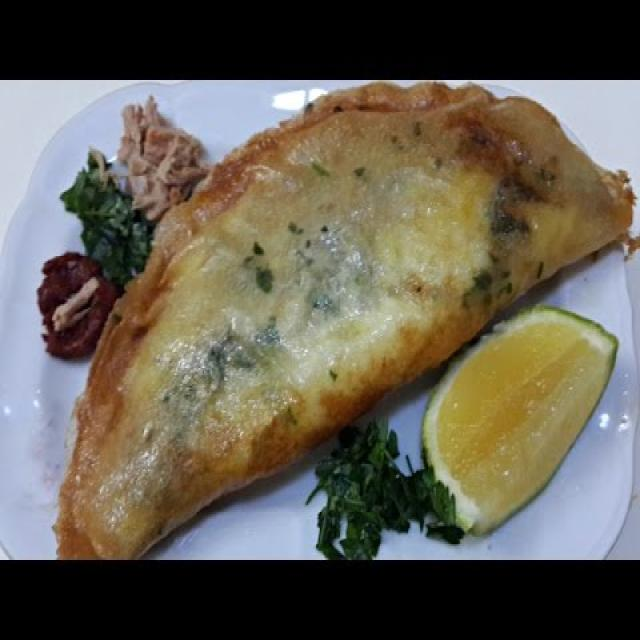brik: (45, 76, 624, 573)
